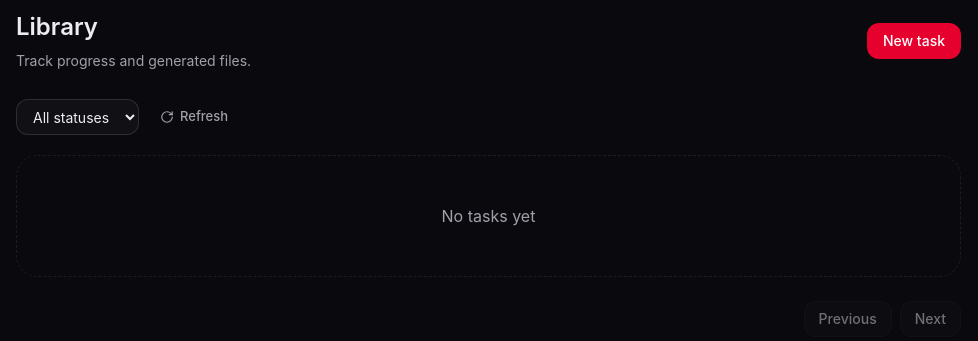
Scenario: filters cancelling tasks and distinguishes an empty filter from an empty library
Expected: the text "No tasks yet" is shown, [16,155,961,277]
Select "Cancelling" in the dropdown named "Task status". click: (78, 117)
box: [16,99,139,135]
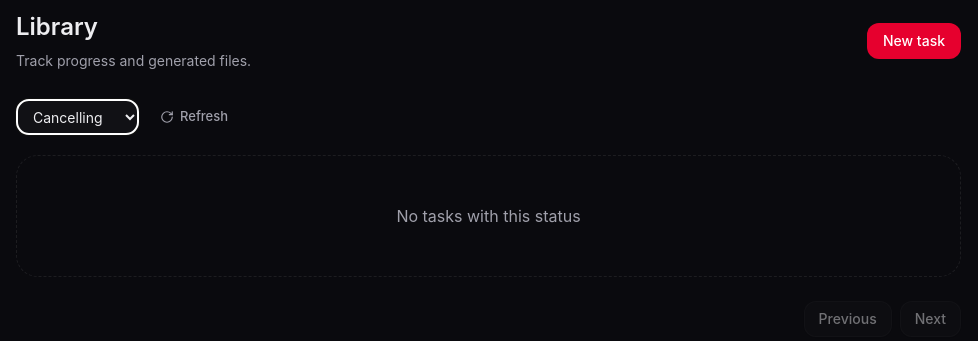
Expected: the text "No tasks with this status" is shown, [16,155,961,277]
Expected: the text "No tasks yet" is gone
